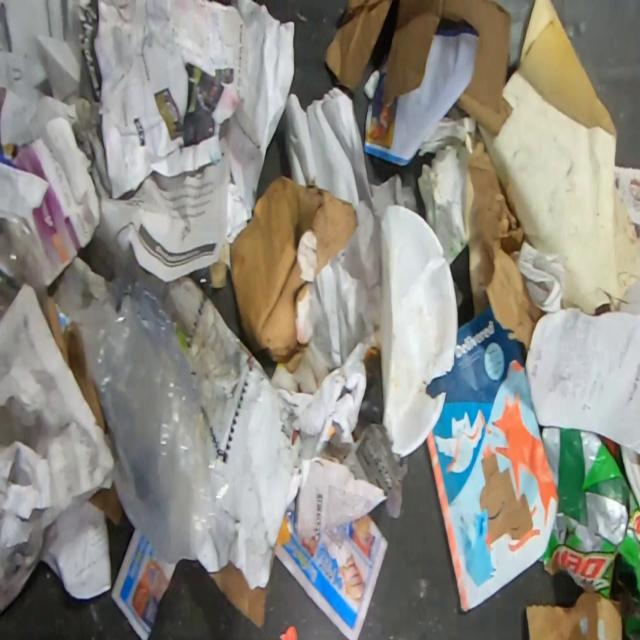cardboard: (229, 173, 358, 375), (537, 426, 640, 640), (384, 0, 514, 138), (324, 0, 393, 93), (525, 591, 622, 640), (208, 560, 267, 628)
soft_plastic: (55, 275, 232, 566), (0, 208, 47, 304)
